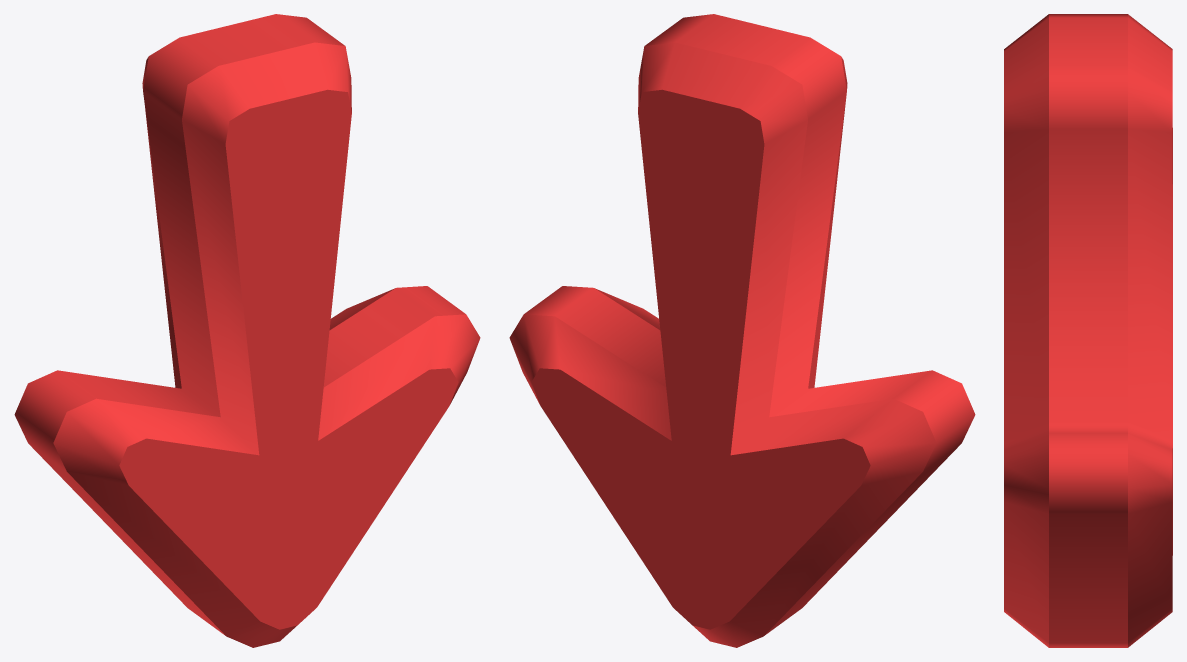
File: Arrow_TypeB_Down.FBX
The picture shows the model from 3 angles, left to right: view 1: azimuth 30°, elevation 25°; view 2: azimuth 150°, elevation 25°; view 3: azimuth 270°, elevation 25°; orthographic projection.
Visible parts, largest first — view 1: Arrow_TypeB_Down; view 2: Arrow_TypeB_Down; view 3: Arrow_TypeB_Down.
Boxes of the visible parts, left/top/right/bottom form: Arrow_TypeB_Down: left=14, top=14, right=480, bottom=647; Arrow_TypeB_Down: left=509, top=14, right=975, bottom=647; Arrow_TypeB_Down: left=1004, top=14, right=1172, bottom=647.
Bounding box in the file's own units: 19.43 × 25.67 × 6.55.
